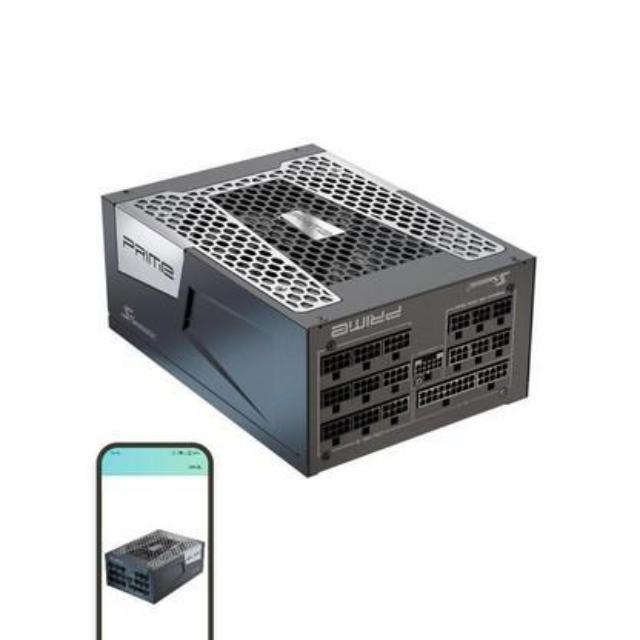PSU: (74, 128, 546, 488)
